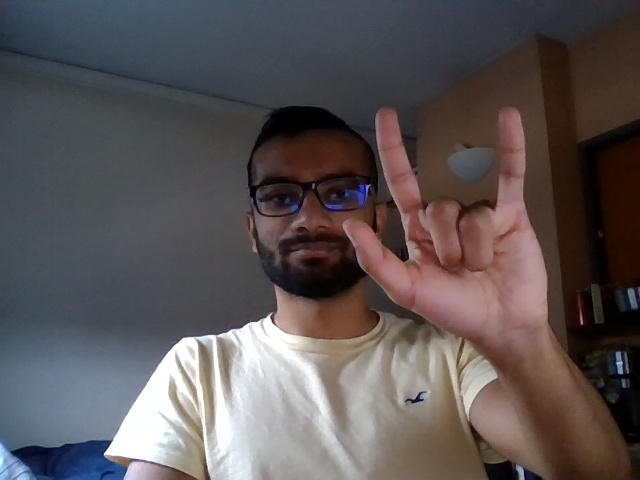I Love You: (339, 100, 565, 334)
